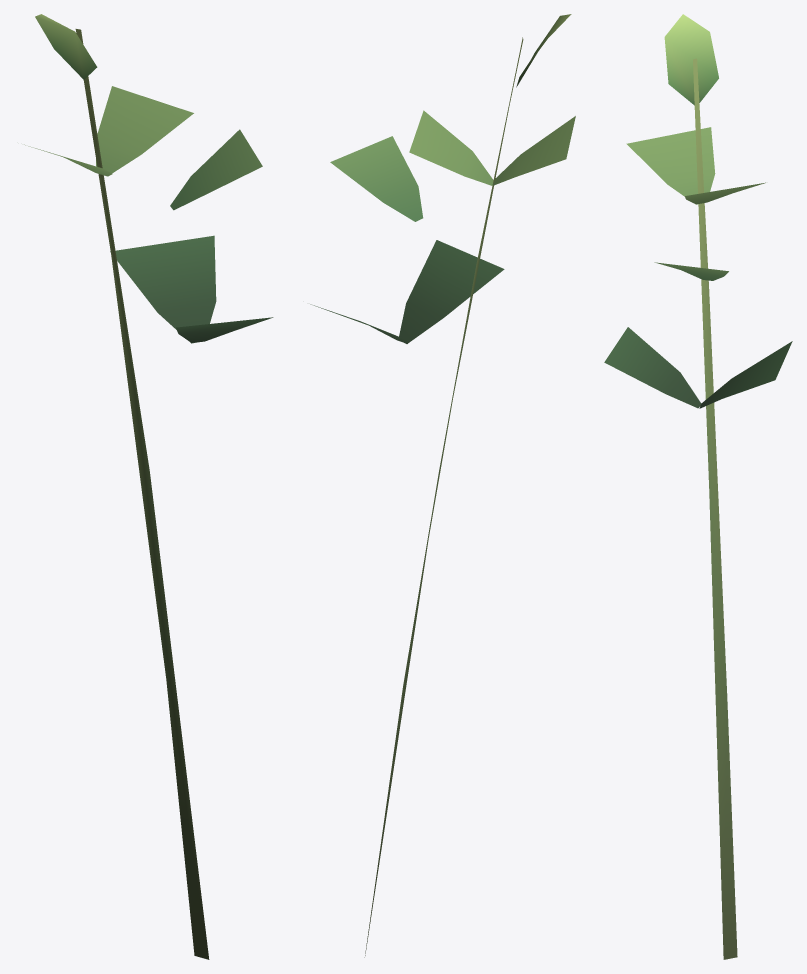
File: NettlePatch_LOD2.glb
3 views of the same model, side by side, from view 1: azimuth 30°, elevation 25°; view 2: azimuth 150°, elevation 25°; view 3: azimuth 270°, elevation 25° (orthographic). The views are drawn at different scales.
Visible parts, largest first — view 1: NettlePatch_LOD2; view 2: NettlePatch_LOD2; view 3: NettlePatch_LOD2.
Boxes of the visible parts, x1,y1,x2,y2 form: NettlePatch_LOD2: [24, 14, 273, 959]; NettlePatch_LOD2: [310, 14, 575, 957]; NettlePatch_LOD2: [604, 14, 792, 959].
Size of the model in its own units: 0.0749 by 0.3042 by 0.06.
